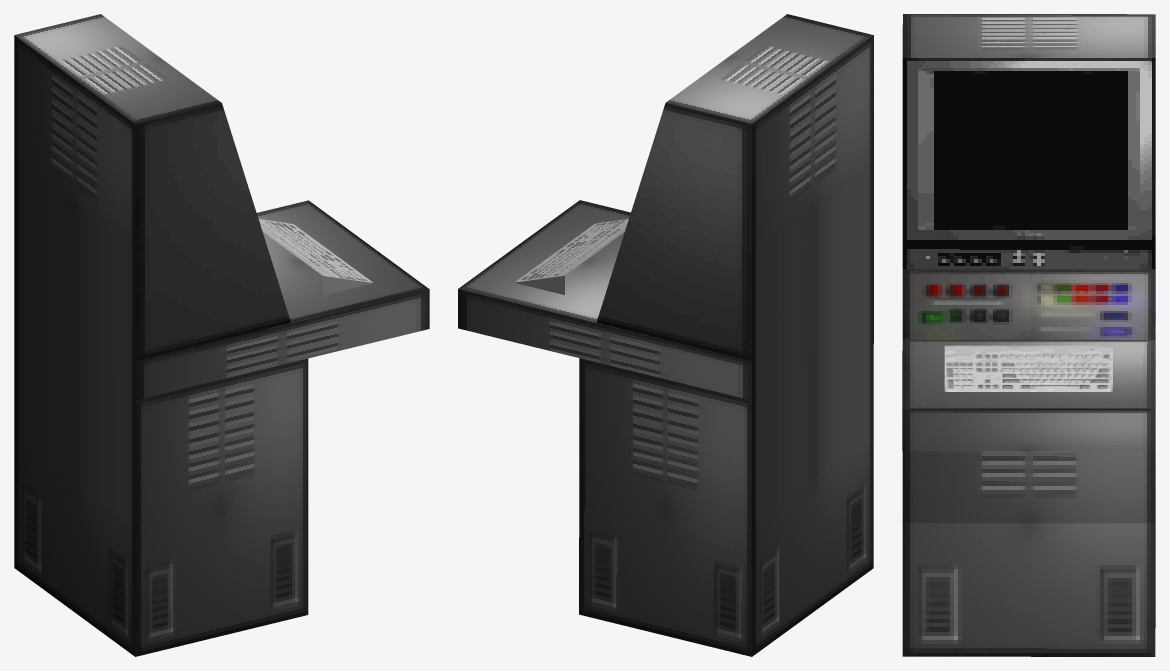
File: console_4.glb
3 renders of one model, left to right at view 1: azimuth 30°, elevation 25°; view 2: azimuth 150°, elevation 25°; view 3: azimuth 270°, elevation 25°, orthographic. The views are drawn at different scales.
Parts seen in each view (by area): view 1: Object; view 2: Object; view 3: Object.
Boxes of the visible parts, x1,y1,x2,y2 form: Object: [14, 14, 429, 656]; Object: [458, 14, 873, 656]; Object: [902, 14, 1155, 656].
Size of the model in its own units: 1.03 by 1.78 by 0.7377.
Materials: 20 (20 with a texture image).
